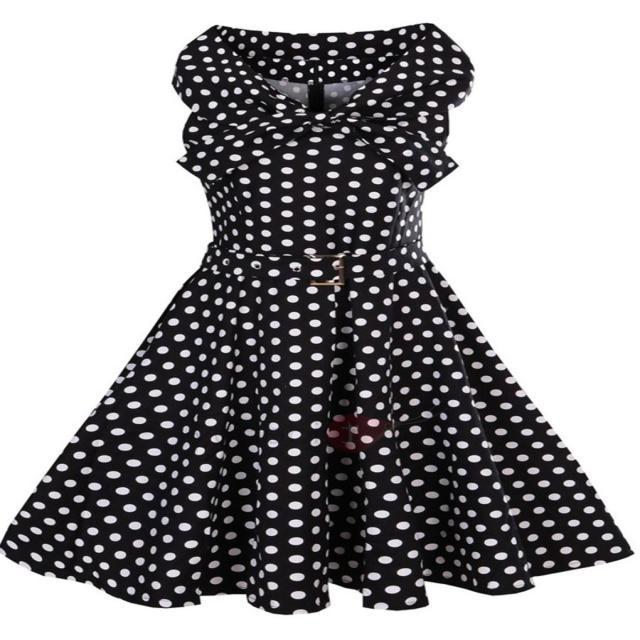Dress: (20, 18, 631, 616)
